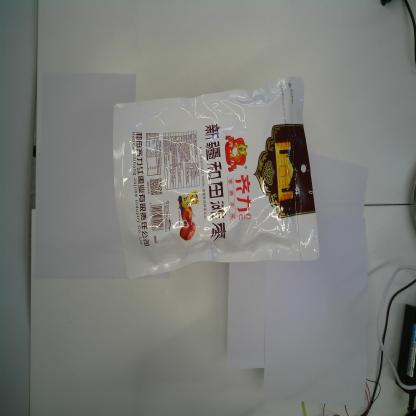Dried Food: (110, 67, 319, 278)
